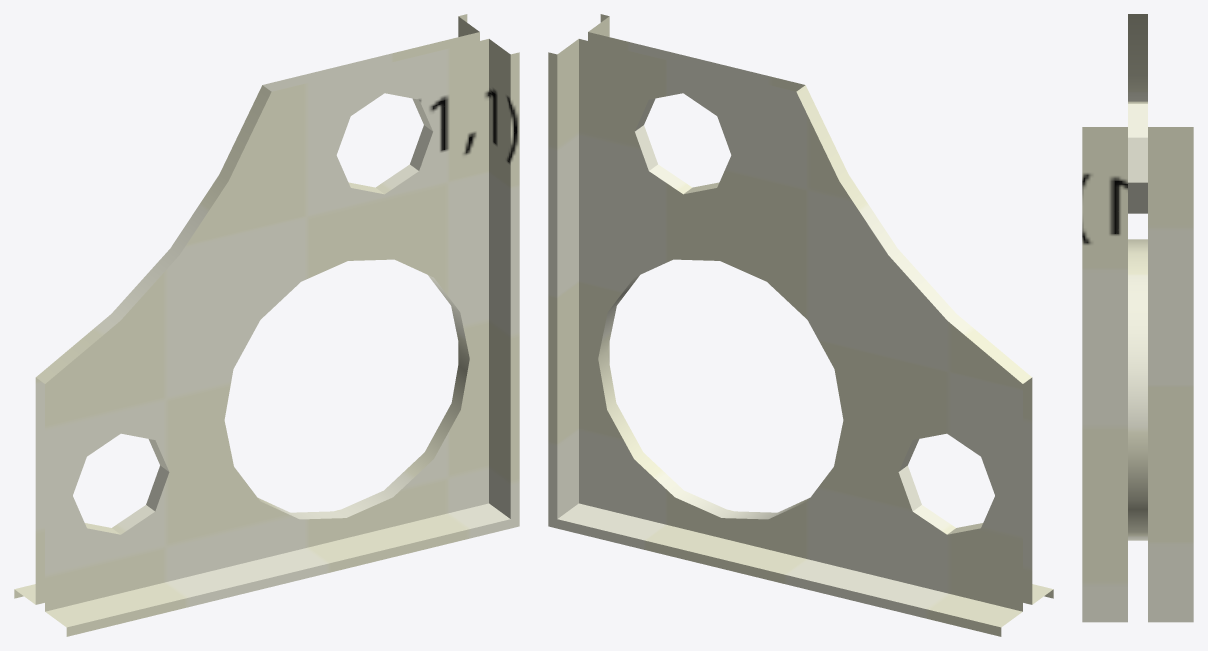
The model's file is wall_corner_struss.fbx.
3 renders of one model, left to right at view 1: azimuth 30°, elevation 25°; view 2: azimuth 150°, elevation 25°; view 3: azimuth 270°, elevation 25°, orthographic. The views are drawn at different scales.
Visible parts, largest first — view 1: wall_corner_struss; view 2: wall_corner_struss; view 3: wall_corner_struss.
Part boxes in pixels (left/top/right/bottom): wall_corner_struss: left=14, top=14, right=519, bottom=636; wall_corner_struss: left=548, top=14, right=1053, bottom=636; wall_corner_struss: left=1082, top=14, right=1193, bottom=622.
Size of the model in its own units: 100 by 100 by 20.
